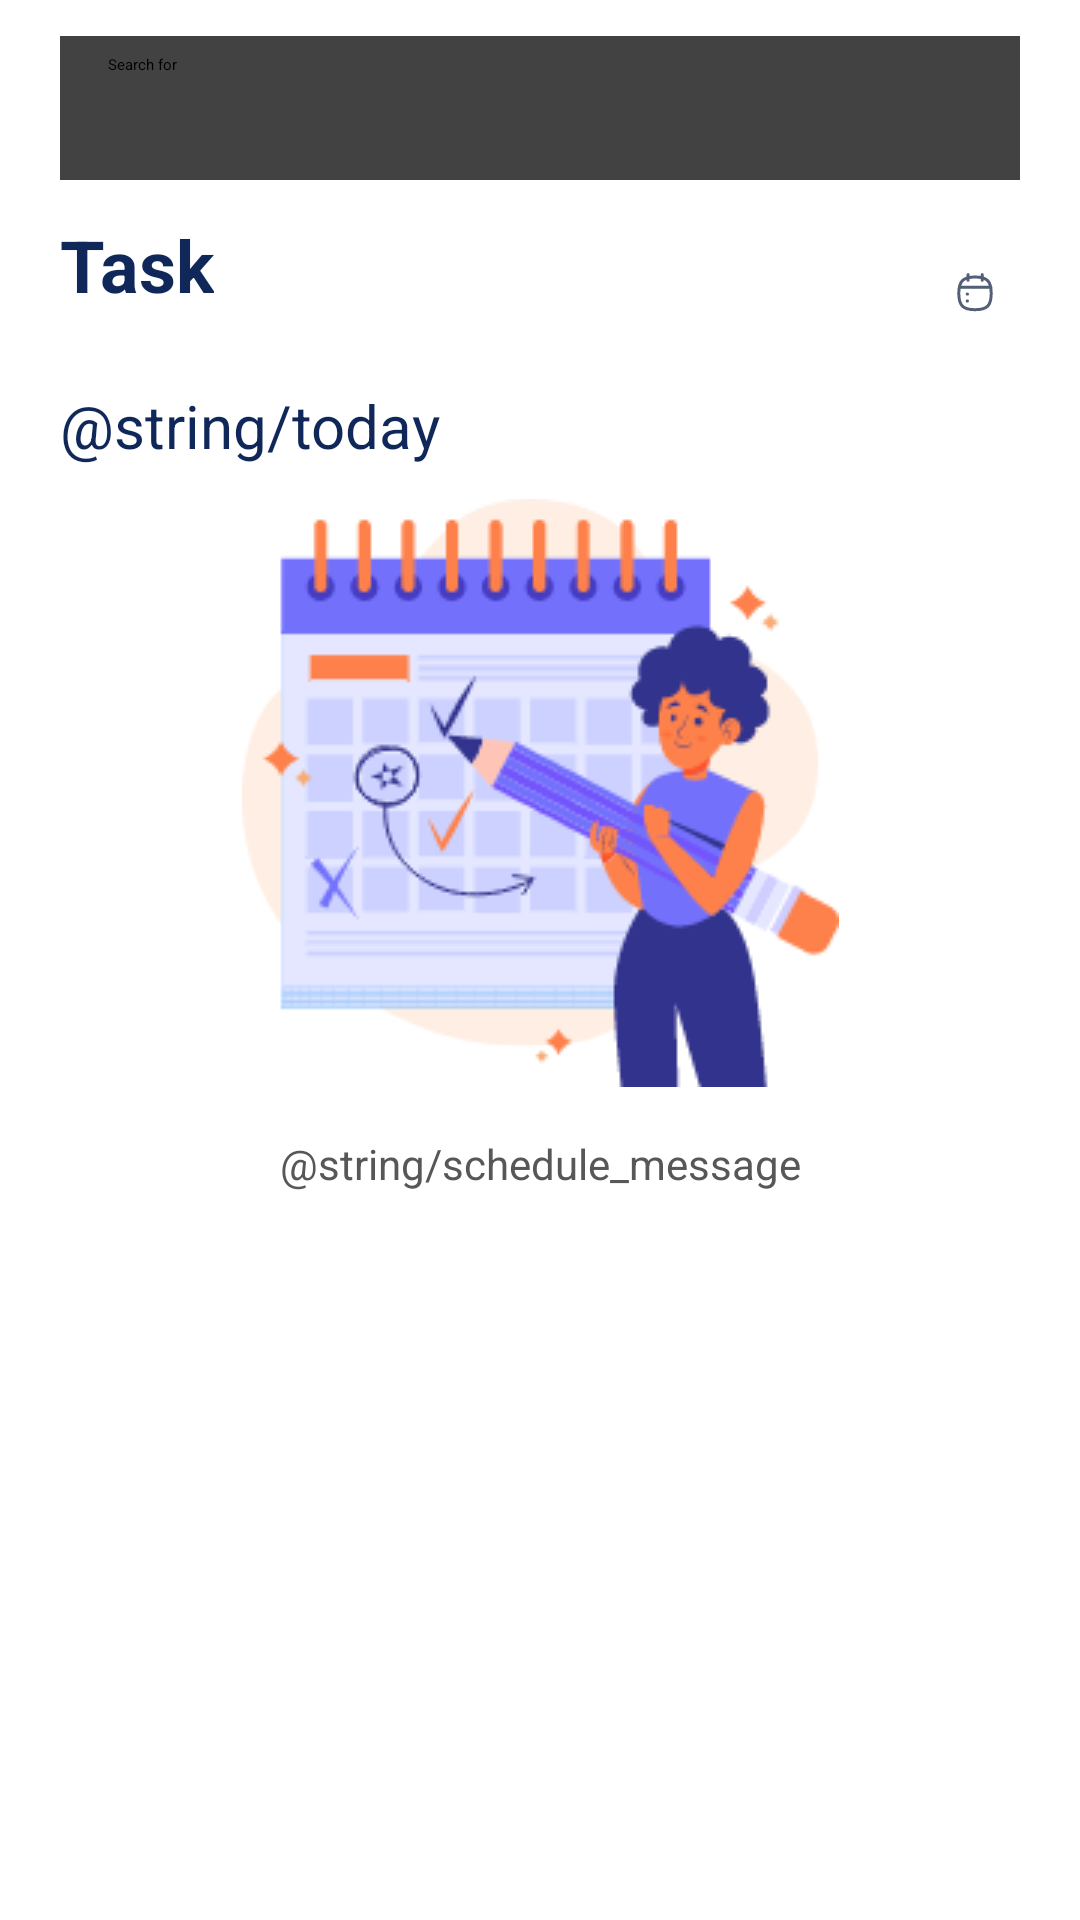

Screen size 1080 × 1920. Icon name, then its box in pixels as bbox=[x1, y1, x2, y2]:
calendar: bbox=[957, 273, 993, 312]
